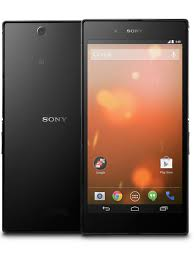sony: (80, 15, 190, 239), (2, 18, 84, 236)
